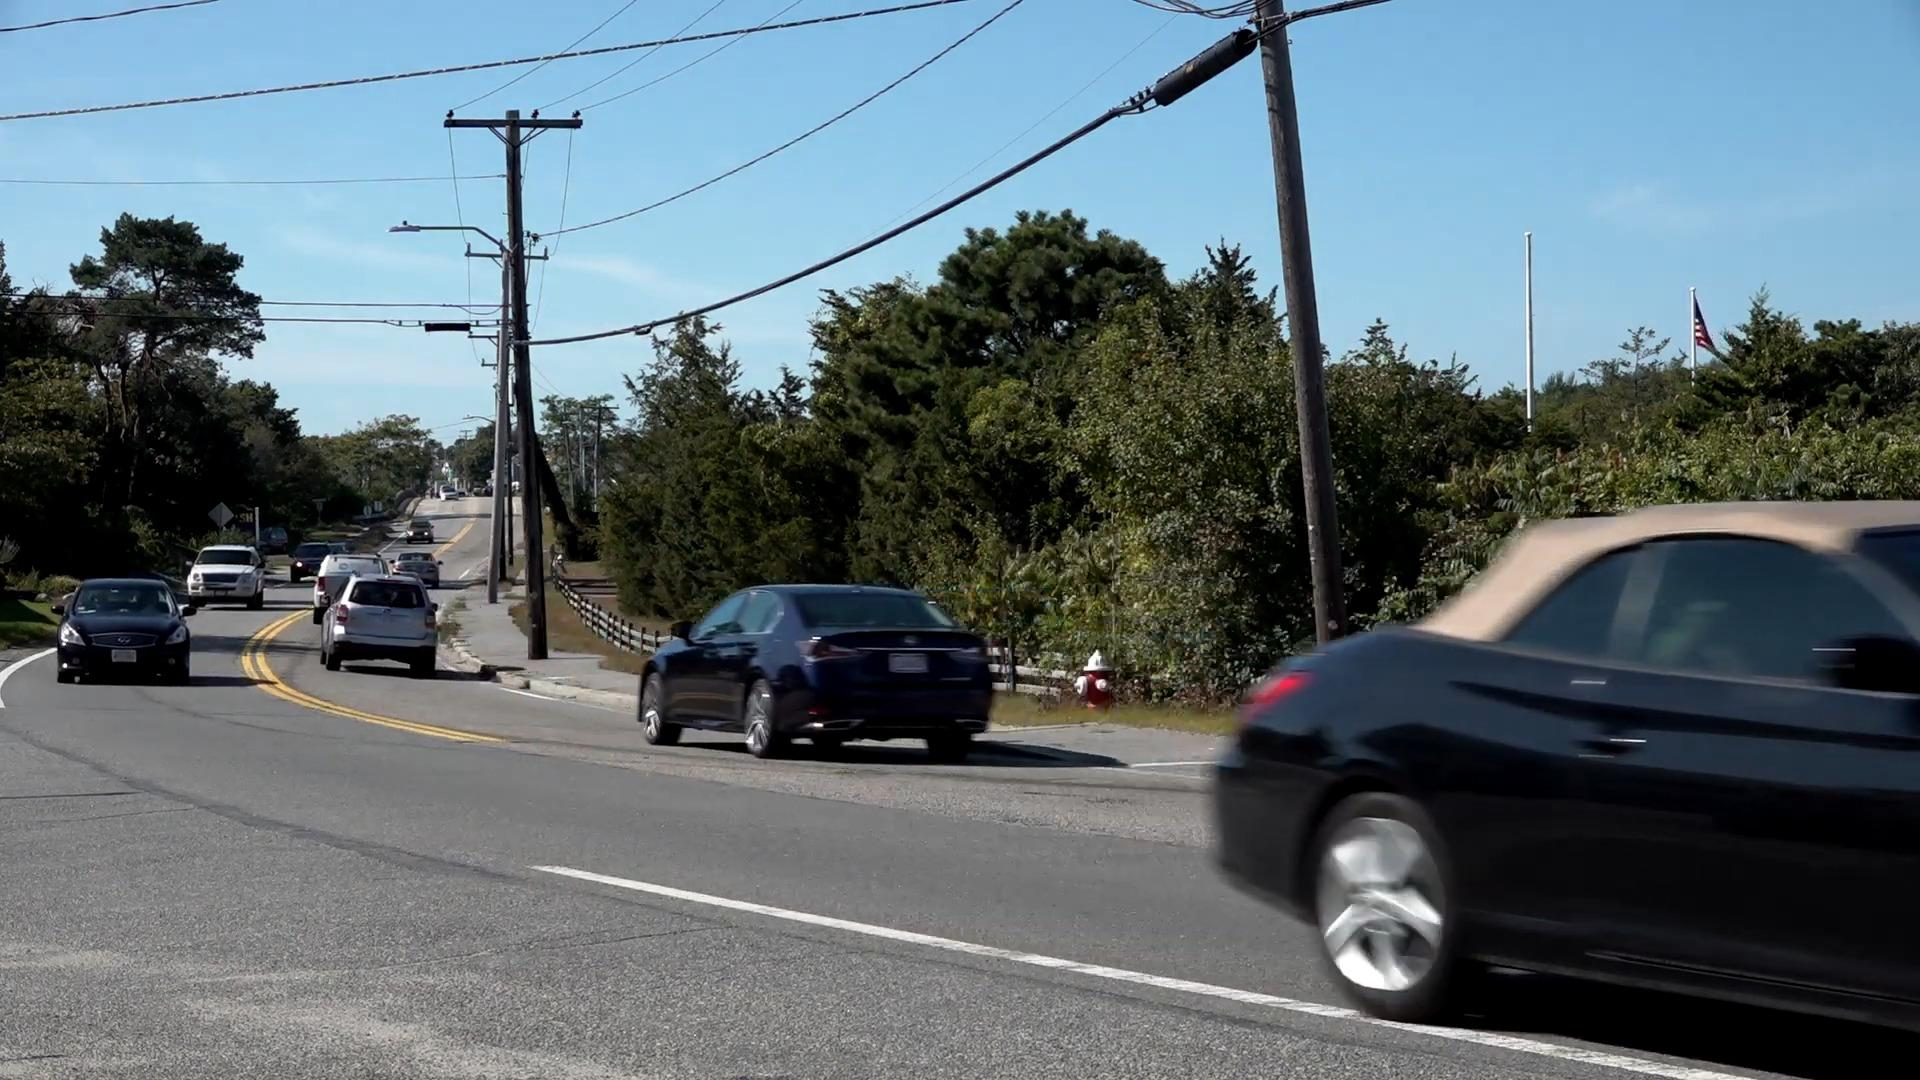sedans: (1208, 497, 1920, 1035), (640, 584, 994, 757), (50, 584, 193, 686)
suv: (323, 576, 439, 674), (190, 544, 270, 607)
